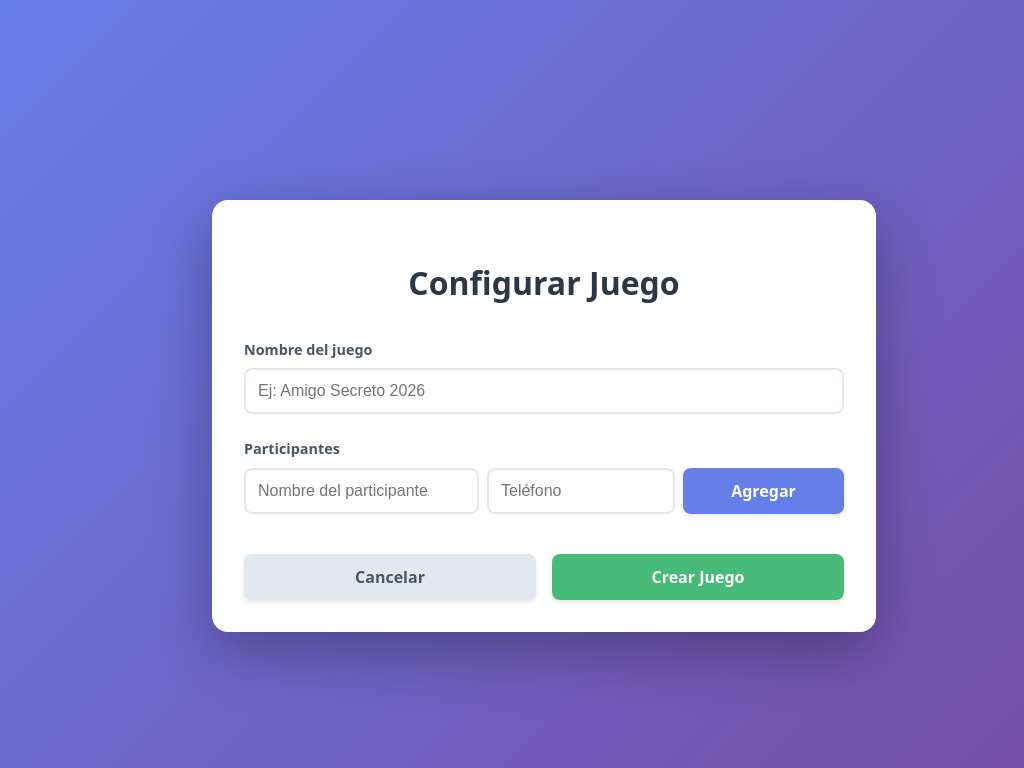
it: GameSetup Component Tests › should add a participant when clicking "Agregar"
Type "Juan" into the field with placeholder "Nombre del participante" at (362, 491), box x1=244 y1=468 x2=479 y2=514
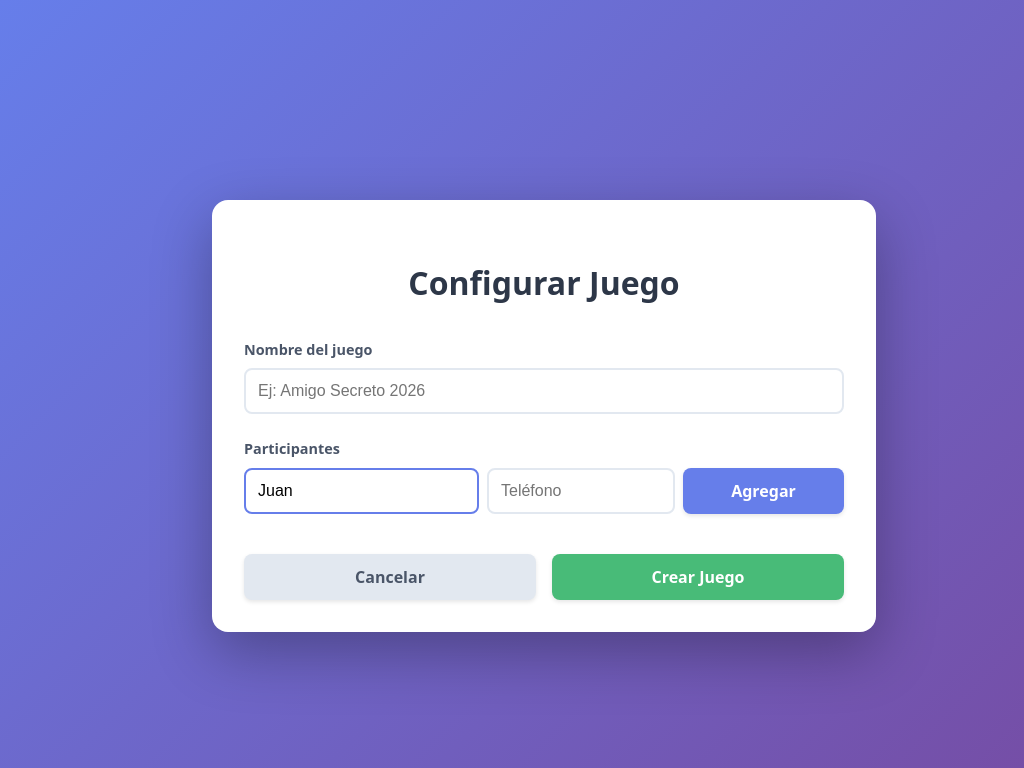
Type "+1234567890" into the field with placeholder "Teléfono" at (581, 491), box x1=487 y1=468 x2=675 y2=514
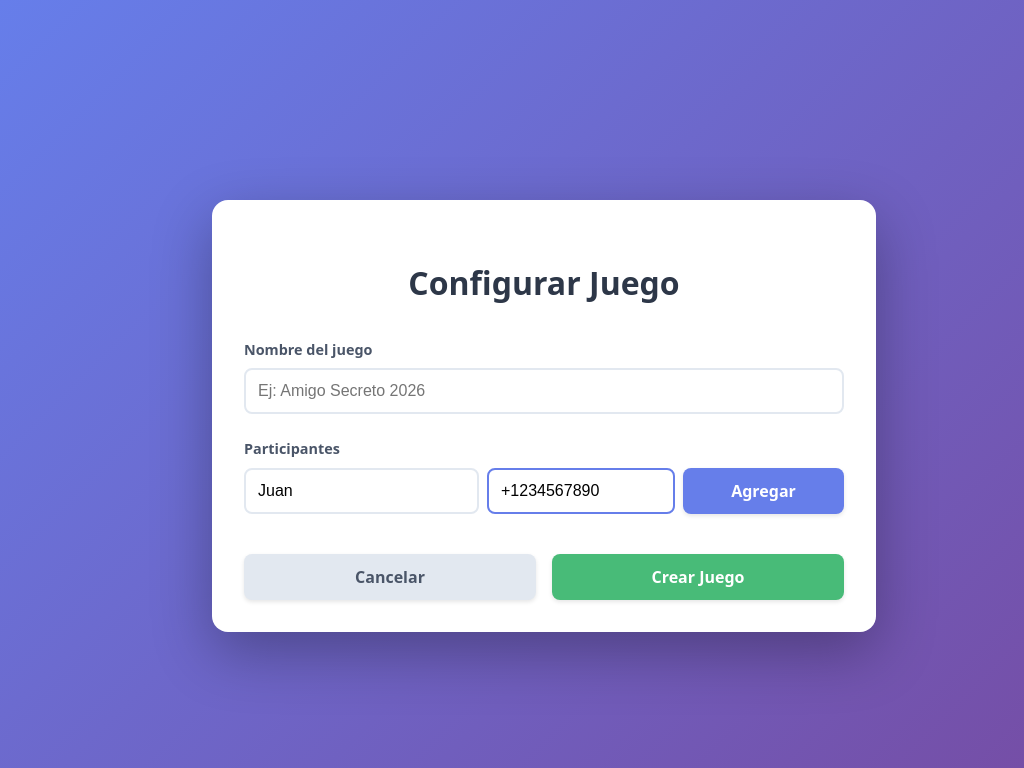
Click the button "Agregar" at (764, 491), box x1=683 y1=468 x2=844 y2=514
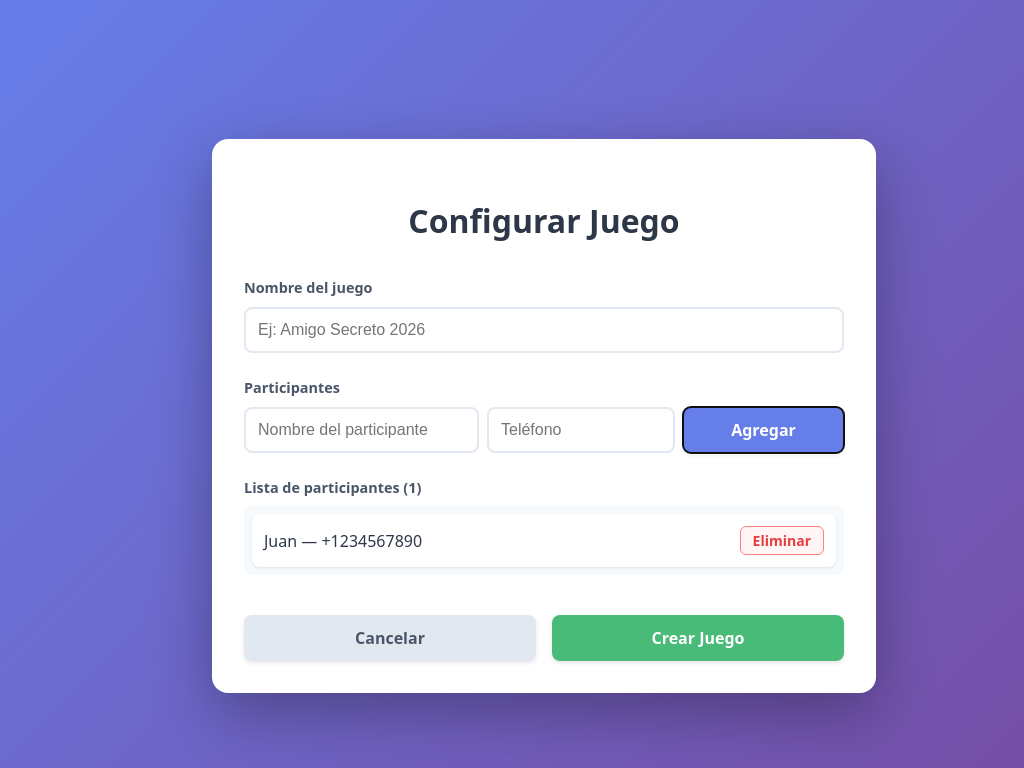
Expected: the text "Juan — +1234567890" is shown, x1=264 y1=529 x2=422 y2=553
Expected: the text "Lista de participantes (1)" is shown, x1=244 y1=478 x2=421 y2=497
